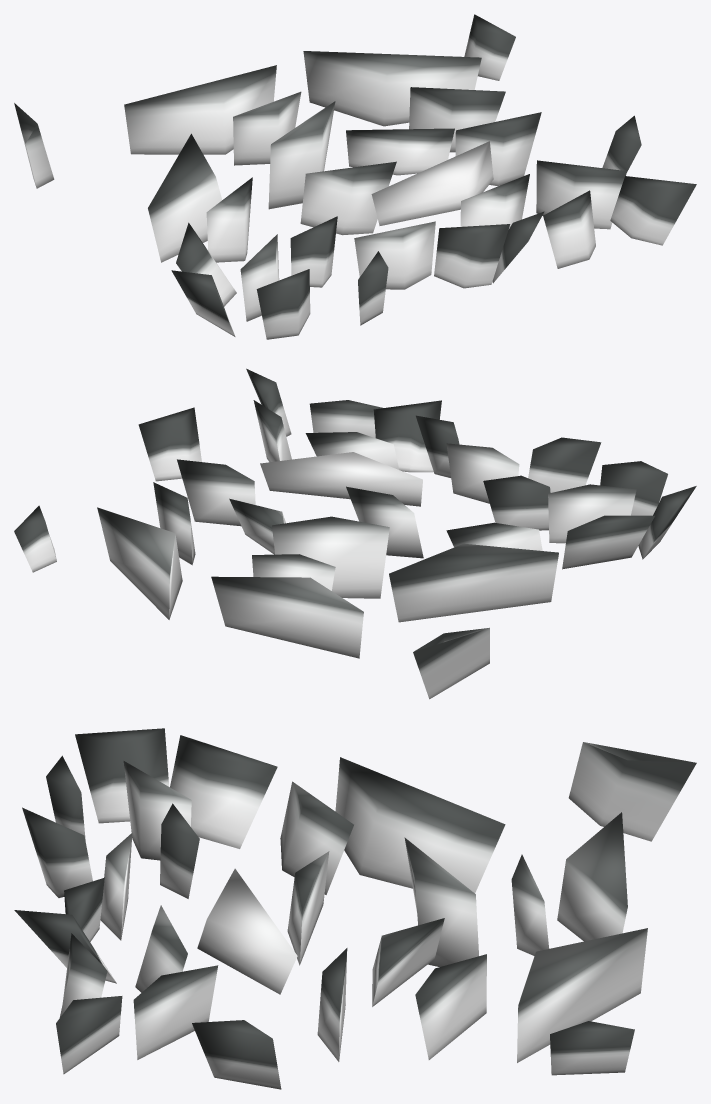
File: plant_1_Destructed.fbx
3 renders of one model, top to bottom at view 1: azimuth 30°, elevation 25°; view 2: azimuth 150°, elevation 25°; view 3: azimuth 270°, elevation 25°, orthographic. The views are drawn at different scales.
Parts seen in each view (by area): view 1: plant_1_Destructed; view 2: plant_1_Destructed; view 3: plant_1_Destructed.
Part boxes in pixels (<box>): plant_1_Destructed: <box>14,14,696,339</box>; plant_1_Destructed: <box>14,368,696,699</box>; plant_1_Destructed: <box>14,728,696,1089</box>.
Size of the model in its own units: 0.8706 by 0.1216 by 0.8102.
